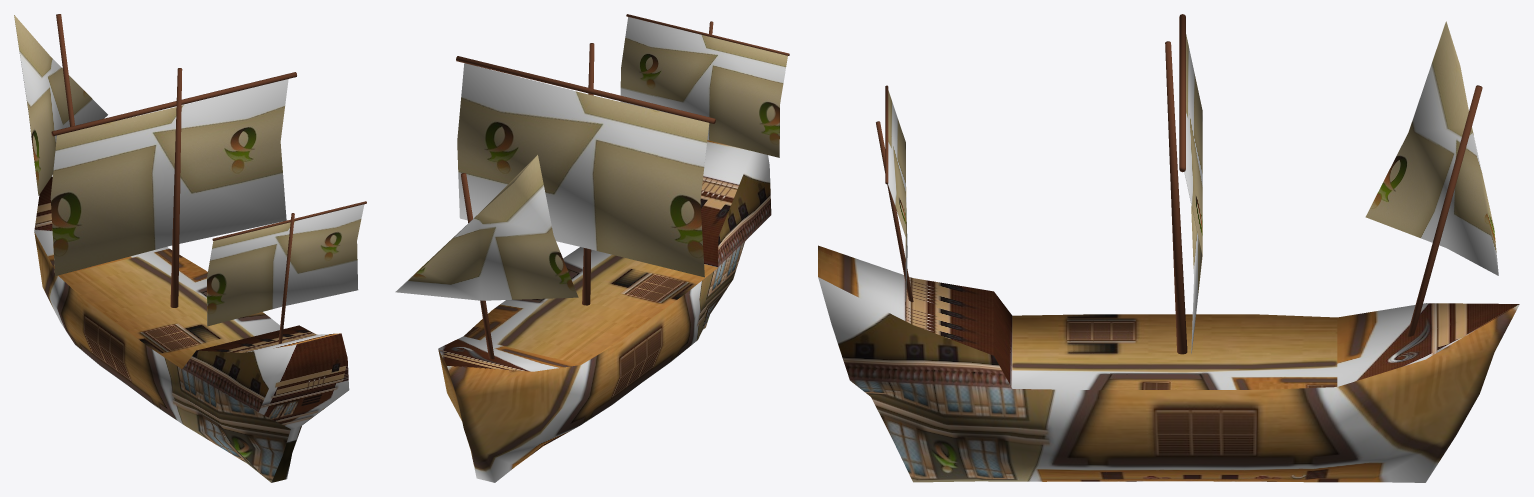
The model's file is jarmada-gallion.gltf.
The picture shows the model from 3 angles, left to right: view 1: azimuth 30°, elevation 25°; view 2: azimuth 150°, elevation 25°; view 3: azimuth 270°, elevation 25°; orthographic projection. The views are drawn at different scales.
Size of the model in its own units: 0.9437 by 1.26 by 1.84.
Materials: 7 (2 with a texture image).
